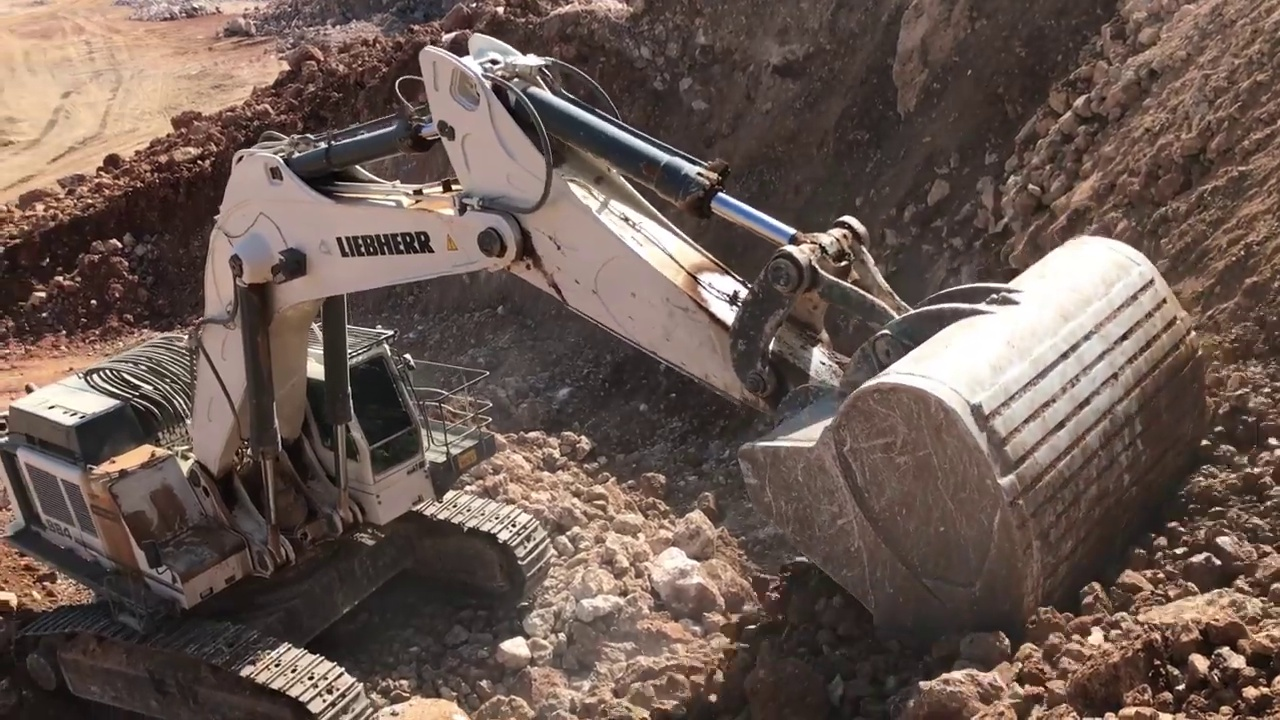excavator: (3, 31, 1212, 720)
